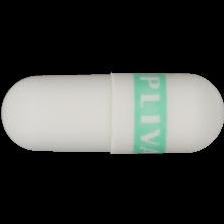67046-212: (0, 0, 224, 224)
